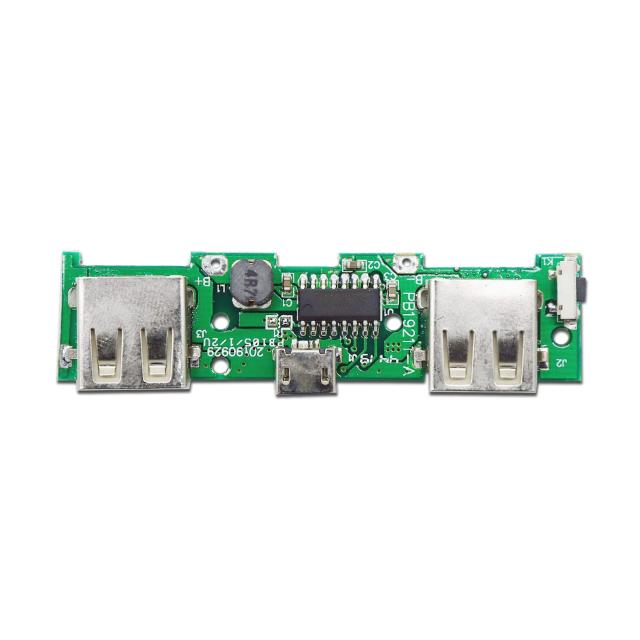2235: (547, 252, 597, 328)
IC: (293, 276, 385, 341)
capacitor 1V5: (388, 272, 400, 303), (342, 258, 364, 274), (278, 271, 292, 293)
connector -5v-: (422, 277, 544, 403), (75, 274, 194, 396), (272, 344, 338, 402)
inductor F1: (228, 259, 274, 310)
